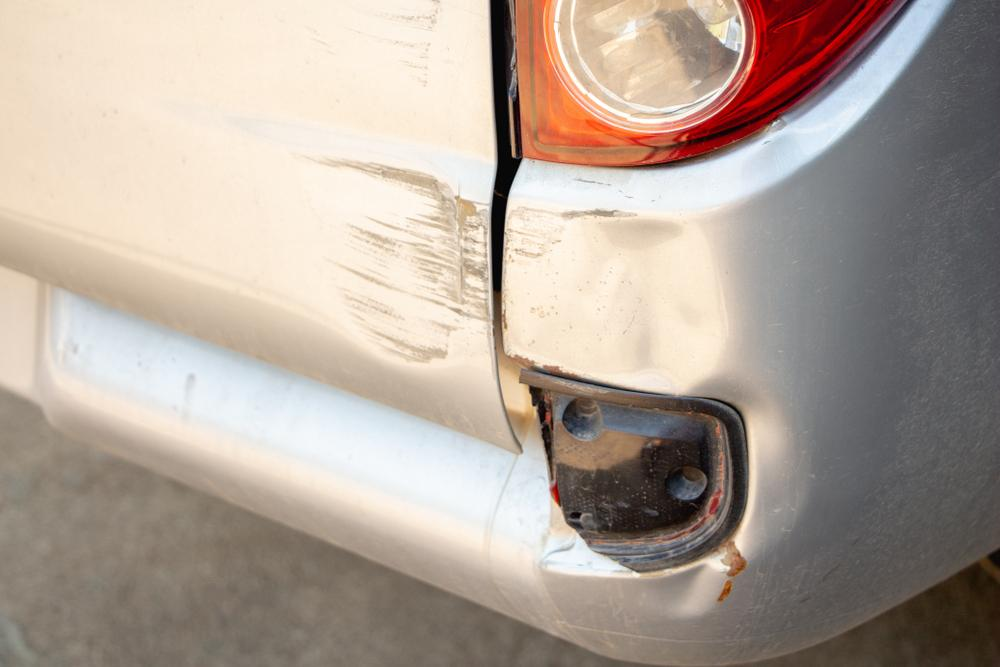dent: (544, 207, 736, 392), (642, 567, 727, 615)
scratch: (288, 148, 494, 368)
